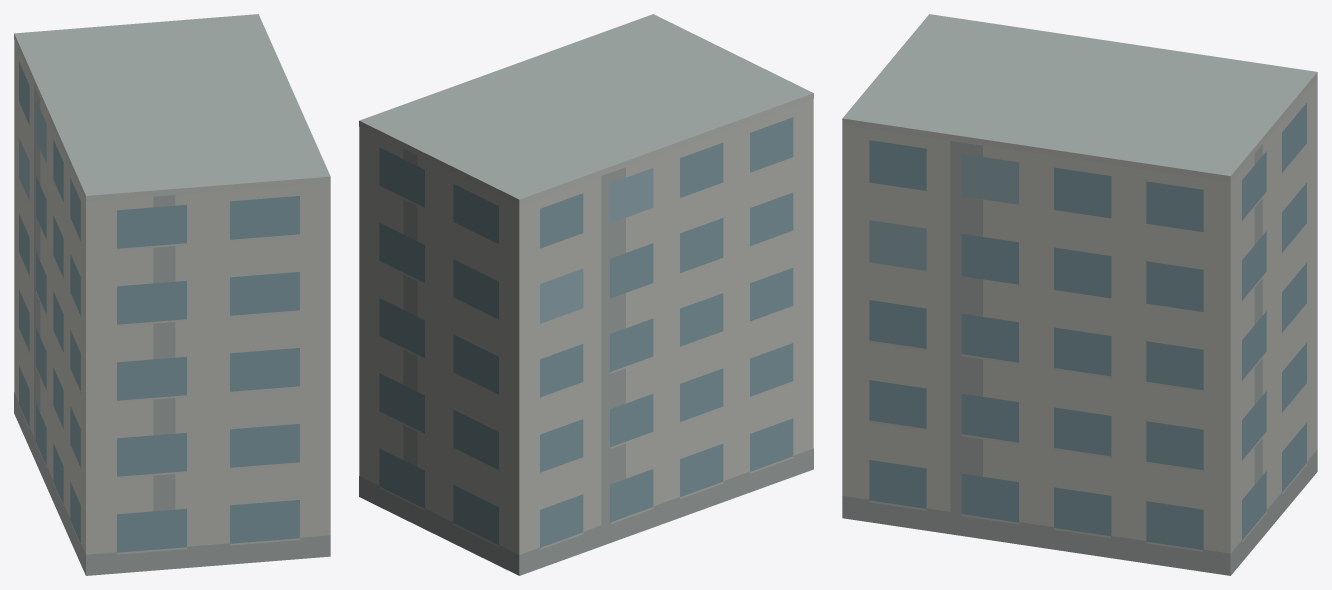
File: residential-7e32cac5-c9a0-40a9-be61-2c8e91e2d673.glb
3 renders of one model, left to right at view 1: azimuth 30°, elevation 25°; view 2: azimuth 150°, elevation 25°; view 3: azimuth 270°, elevation 25°, orthographic. The views are drawn at different scales.
Visible parts, largest first — view 1: residential-7e32cac5-c9a0-40a9-be61-2c8e91e2d673.tmp; view 2: residential-7e32cac5-c9a0-40a9-be61-2c8e91e2d673.tmp; view 3: residential-7e32cac5-c9a0-40a9-be61-2c8e91e2d673.tmp.
Part boxes in pixels (x1,y1,x2,y2): residential-7e32cac5-c9a0-40a9-be61-2c8e91e2d673.tmp: (14,14,330,575); residential-7e32cac5-c9a0-40a9-be61-2c8e91e2d673.tmp: (359,14,813,575); residential-7e32cac5-c9a0-40a9-be61-2c8e91e2d673.tmp: (842,14,1317,575).
Size of the model in its own units: 13.28 by 15.25 by 16.44.
